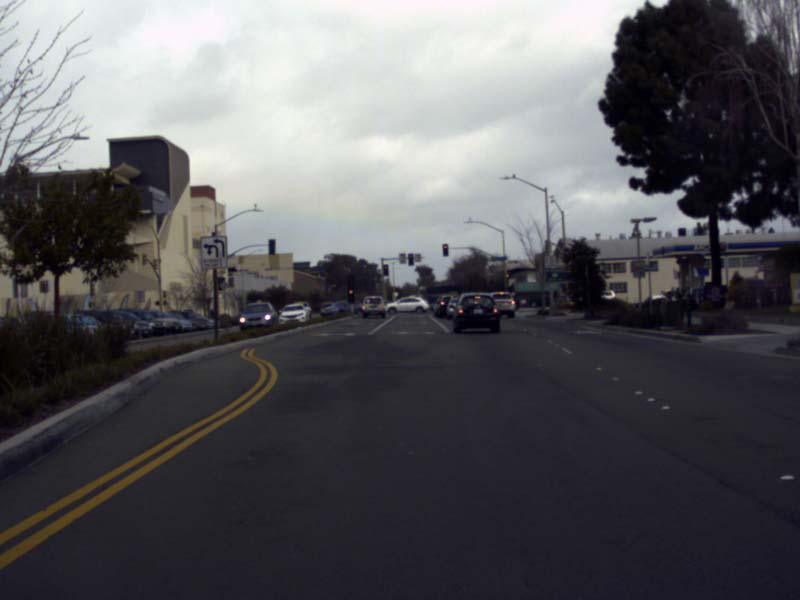Red: (382, 263, 389, 277), (407, 253, 413, 265), (348, 288, 353, 302), (442, 243, 447, 256), (506, 272, 509, 282)
